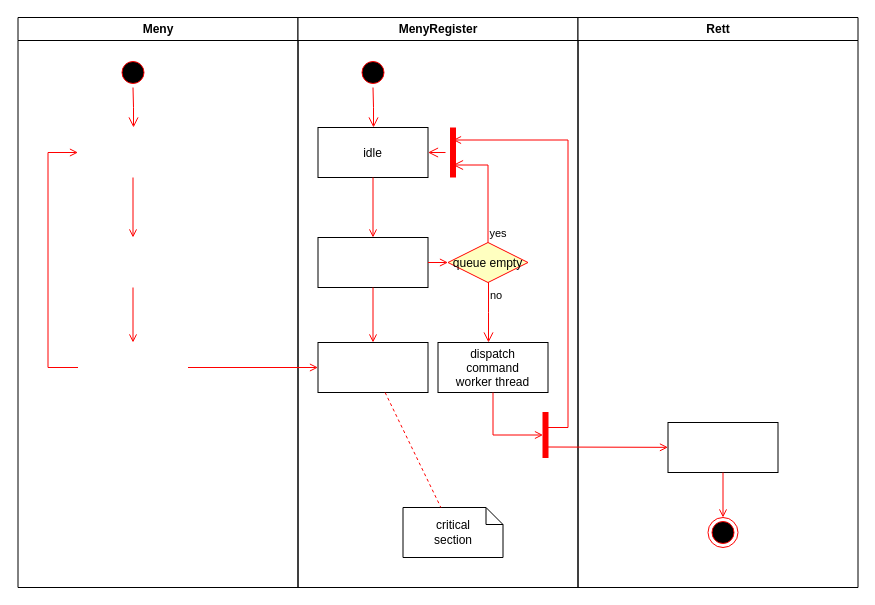
The diagram is 875 pixels wide and 605 high, and some of its shapes have lost their labels. The centre of each missing label's shape, as x and y in pixels:
"check for new commands" goes at [372,262].
"command queue" goes at [372,367].
"process command" goes at [722,447].
